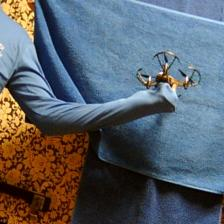drone: (135, 50, 201, 95)
